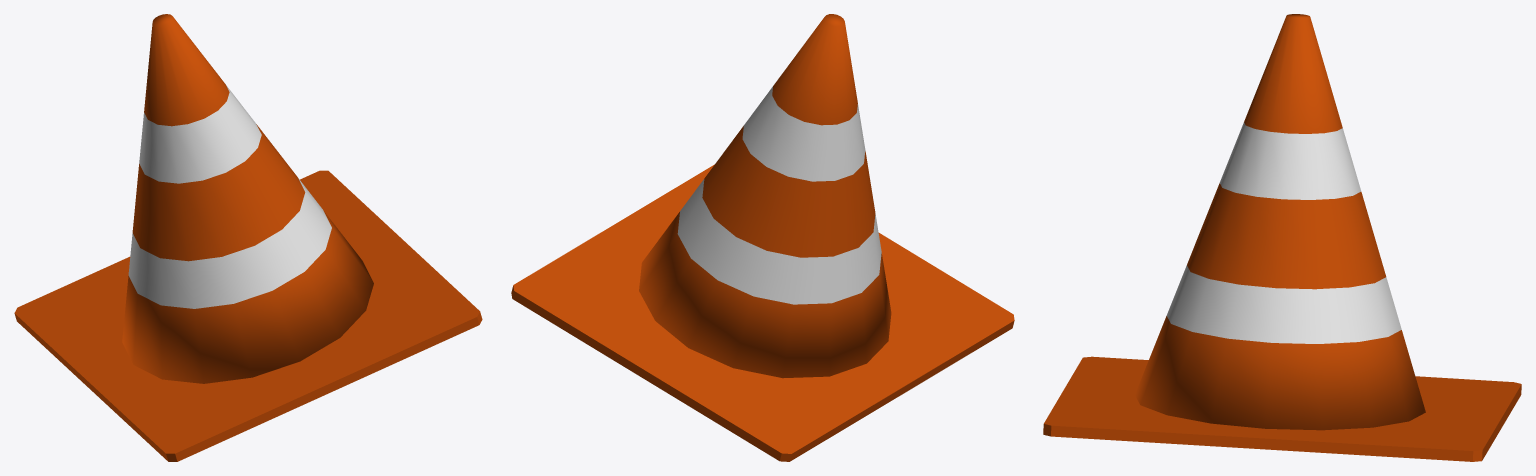
Rendered from vlc cone.fbx.
3 renders of one model, left to right at view 1: azimuth 30°, elevation 25°; view 2: azimuth 150°, elevation 25°; view 3: azimuth 270°, elevation 25°, orthographic. The views are drawn at different scales.
Visible parts, largest first — view 1: Cylinder; view 2: Cylinder; view 3: Cylinder.
Boxes of the visible parts, x1,y1,x2,y2 form: Cylinder: (14, 14, 482, 461); Cylinder: (511, 14, 1014, 461); Cylinder: (1043, 14, 1521, 461).
Bounding box in the file's own units: 297 × 307 × 327.
